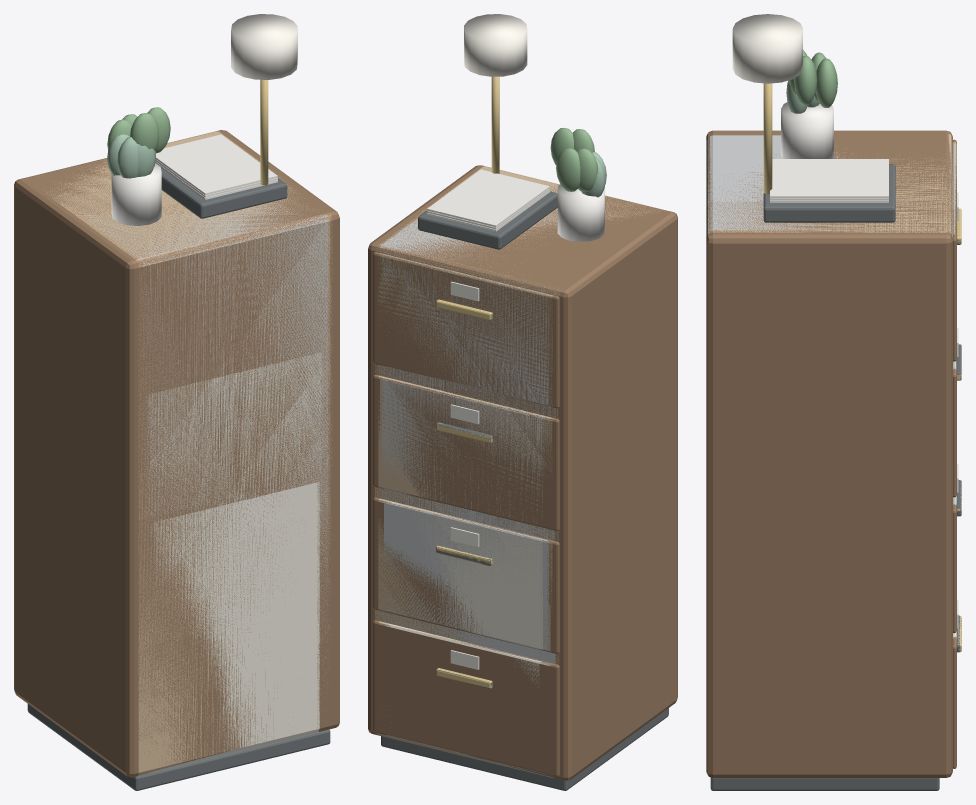
The model's file is Gear17.fbx.
3 views of the same model, side by side, from view 1: azimuth 30°, elevation 25°; view 2: azimuth 150°, elevation 25°; view 3: azimuth 270°, elevation 25° (orthographic). The views are drawn at different scales.
Visible parts, largest first — view 1: Gear17_V10_Walnut, Gear17_V1_Ivory, Gear17_V8_Oak, Gear17_V6_BrushedSteel, Gear17_V9_Walnut, Gear17_V3_Ivory, Gear17_V7_Oak, Gear17_V4_BrushedSteel, Gear17_V10_Paper, Gear17_V10_Charcoal, Gear17_V10_Linen, Gear17_V10_Quartz (+6 smaller); view 2: Gear17_V10_Walnut, Gear17_V9_Walnut, Gear17_V6_BrushedSteel, Gear17_V8_Oak, Gear17_V5_BrushedSteel, Gear17_V2_Ivory, Gear17_V1_Ivory, Gear17_V7_Oak, Gear17_V3_Ivory, Gear17_V10_Paper, Gear17_V4_BrushedSteel, Gear17_V10_Charcoal (+9 smaller); view 3: Gear17_V10_Walnut, Gear17_V6_BrushedSteel, Gear17_V10_Charcoal, Gear17_V10_Paper, Gear17_V10_Linen, Gear17_V9_Walnut, Gear17_V7_Oak, Gear17_V8_Oak, Gear17_V10_Quartz, Gear17_V10_Leaf, Gear17_V10_Brass.
Part boxes in pixels (<box>): Gear17_V10_Walnut: <box>14,130,339,777</box>; Gear17_V1_Ivory: <box>153,482,317,772</box>; Gear17_V8_Oak: <box>44,131,332,775</box>; Gear17_V6_BrushedSteel: <box>28,163,328,688</box>; Gear17_V9_Walnut: <box>43,130,334,776</box>; Gear17_V3_Ivory: <box>149,352,321,772</box>; Gear17_V7_Oak: <box>25,131,330,775</box>; Gear17_V4_BrushedSteel: <box>147,352,323,773</box>; Gear17_V10_Paper: <box>155,134,277,199</box>; Gear17_V10_Charcoal: <box>27,168,330,790</box>; Gear17_V10_Linen: <box>231,14,297,79</box>; Gear17_V10_Quartz: <box>111,163,161,225</box>; Gear17_V10_Walnut: <box>368,165,677,780</box>; Gear17_V9_Walnut: <box>373,165,589,779</box>; Gear17_V6_BrushedSteel: <box>379,180,607,775</box>; Gear17_V8_Oak: <box>375,166,669,734</box>; Gear17_V5_BrushedSteel: <box>381,375,553,778</box>; Gear17_V2_Ivory: <box>389,502,541,756</box>; Gear17_V1_Ivory: <box>391,502,542,747</box>; Gear17_V7_Oak: <box>377,184,661,775</box>; Gear17_V3_Ivory: <box>388,381,548,753</box>; Gear17_V10_Paper: <box>427,169,549,424</box>; Gear17_V4_BrushedSteel: <box>385,379,545,751</box>; Gear17_V10_Charcoal: <box>381,191,668,790</box>; Gear17_V10_Walnut: <box>706,130,956,777</box>; Gear17_V6_BrushedSteel: <box>706,135,956,369</box>; Gear17_V10_Charcoal: <box>710,164,939,790</box>; Gear17_V10_Paper: <box>770,159,958,356</box>; Gear17_V10_Linen: <box>732,14,802,83</box>; Gear17_V9_Walnut: <box>706,132,956,644</box>; Gear17_V7_Oak: <box>706,143,956,643</box>; Gear17_V8_Oak: <box>706,134,956,237</box>; Gear17_V10_Quartz: <box>781,102,833,158</box>; Gear17_V10_Leaf: <box>788,50,837,107</box>; Gear17_V10_Brass: <box>763,83,961,651</box>.
Bounding box in the file's own units: 58.8 × 186 × 58.
